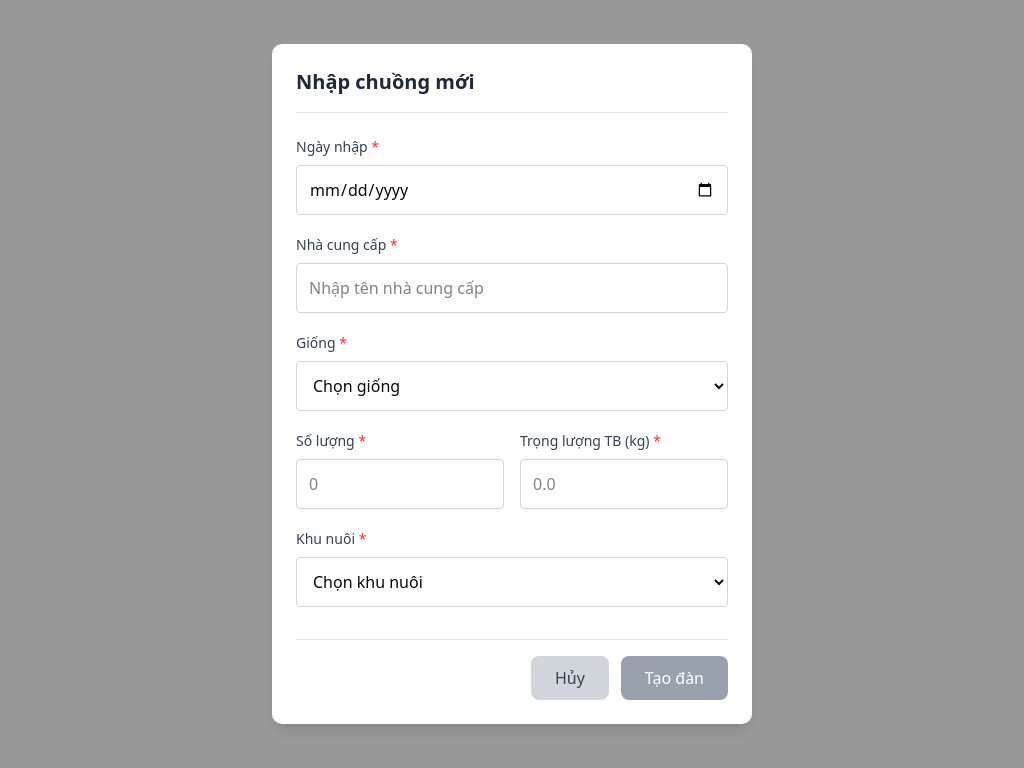
Test case: U5.2 - Form Nhập chuồng mới & U5.5 - Chỉnh sửa › TC5 - Hiển thị lỗi khi trọng lượng TB <= 0
The image size is (1024, 768).
# Tìm input trọng lượng
Type "0" into the number field with placeholder "0.0" at x=624, y=484, box [520,459,728,509]
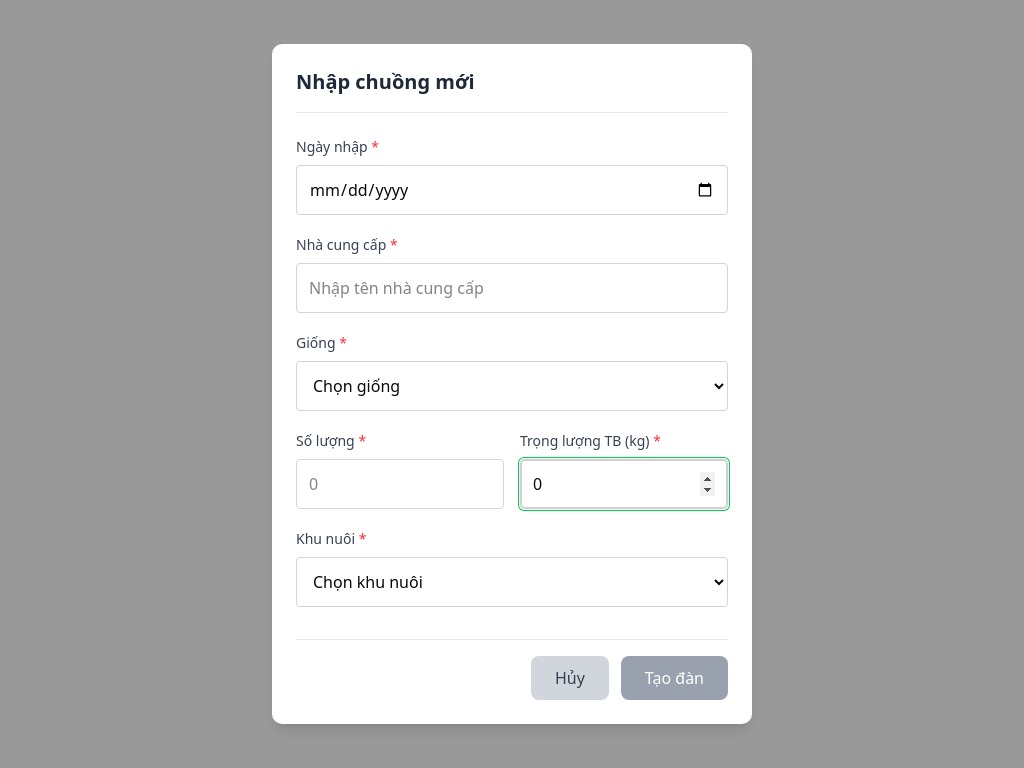
Press Tab
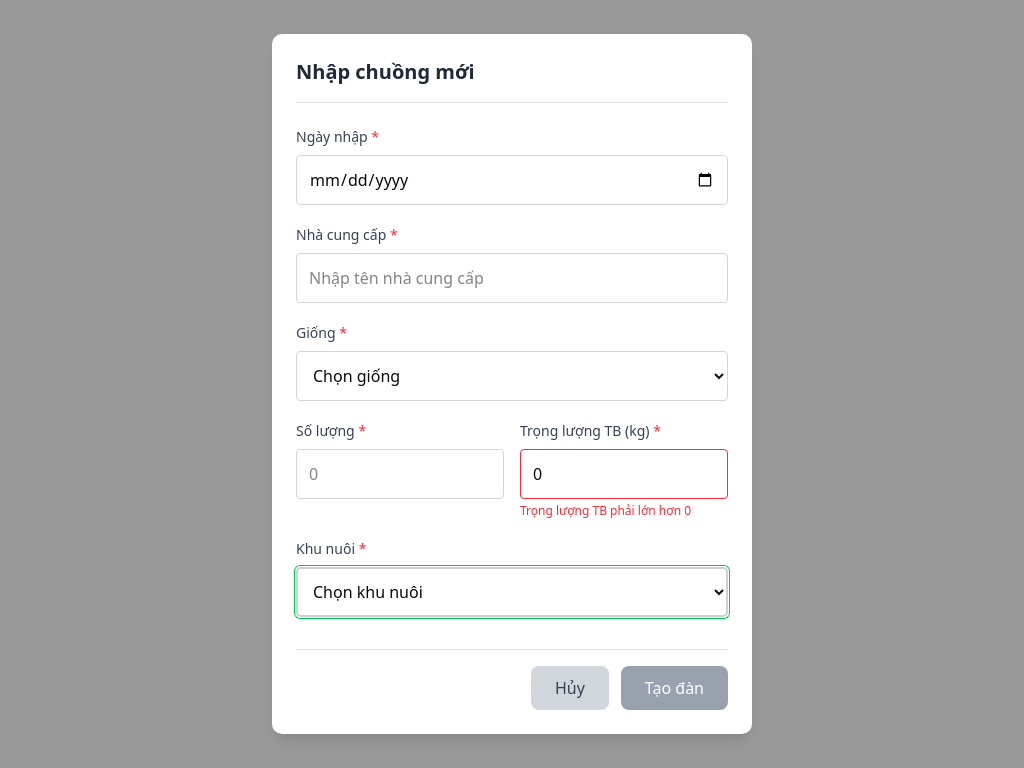
Now the text "Trọng lượng TB phải lớn hơn 0" is shown, box [520,502,691,519]
